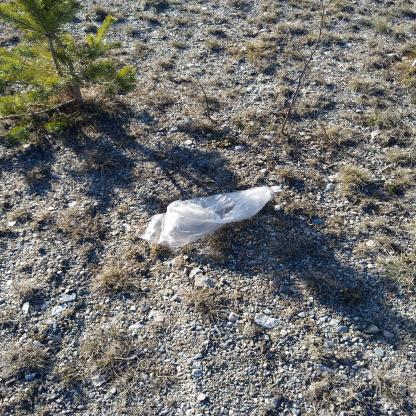trash: (137, 184, 286, 251)
